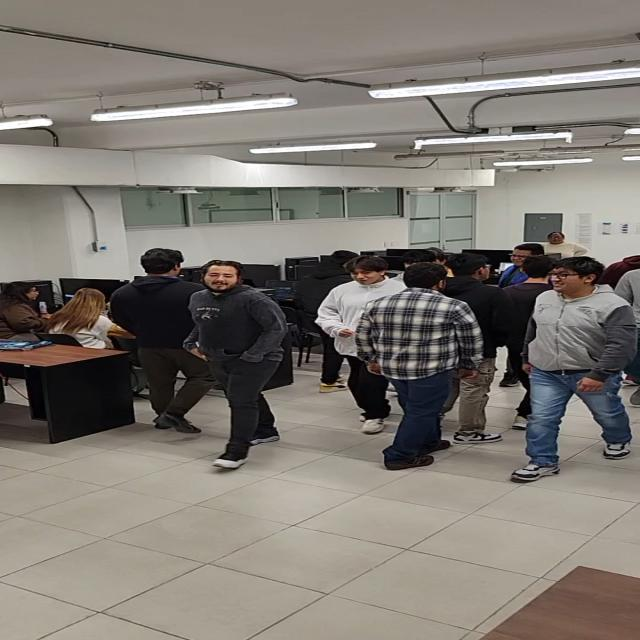Persona: (514, 263, 634, 479), (194, 261, 280, 462), (383, 264, 456, 462), (135, 250, 200, 456), (328, 255, 391, 433), (534, 226, 598, 260)
